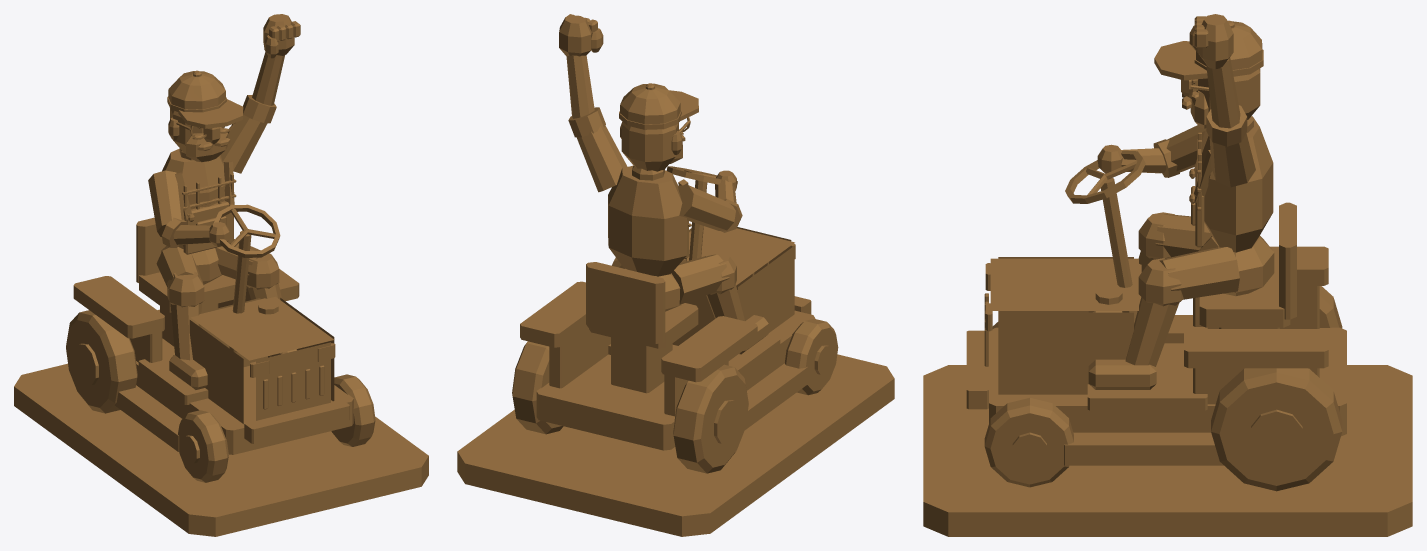
The model's file is statue.glb.
The picture shows the model from 3 angles, left to right: view 1: azimuth 30°, elevation 25°; view 2: azimuth 150°, elevation 25°; view 3: azimuth 270°, elevation 25°; orthographic projection. The views are drawn at different scales.
Parts seen in each view (by area): view 1: bronze octagonal plinth.001, beveled engine hood.001, rear wheel.001, rear wheel fender.001, mower chassis.001, front wheel.001, front bumper.001, wide cutting deck.001, flannel shirt torso.001, front wheel.003, baseball cap crown.001, steering upper sleeve.001 (+23 smaller); view 2: bronze octagonal plinth.001, mower chassis.001, flannel shirt torso.001, beveled engine hood.001, tractor seat back.001, rear wheel.001, rear wheel fender.001, rear wheel fender.003, rear wheel.003, seat pedestal.001, front wheel.001, fender support panel.003 (+17 smaller); view 3: bronze octagonal plinth.001, beveled engine hood.001, rear wheel.003, mower chassis.001, rear wheel fender.003, front wheel.003, flannel shirt torso.001, wide cutting deck.001, tractor seat cushion.001, dungaree thigh.003, rider footboard.003, dungaree shin.003 (+26 smaller).
Part boxes in pixels (bbox=[...]): bronze octagonal plinth.001: bbox=[14, 363, 428, 536]; beveled engine hood.001: bbox=[189, 296, 334, 423]; rear wheel.001: bbox=[66, 310, 137, 413]; rear wheel fender.001: bbox=[73, 276, 164, 338]; mower chassis.001: bbox=[136, 309, 353, 454]; front wheel.001: bbox=[178, 410, 228, 482]; front bumper.001: bbox=[244, 399, 349, 443]; wide cutting deck.001: bbox=[114, 385, 181, 451]; flannel shirt torso.001: bbox=[162, 148, 225, 248]; front wheel.003: bbox=[331, 374, 375, 446]; baseball cap crown.001: bbox=[168, 71, 225, 109]; steering upper sleeve.001: bbox=[148, 170, 184, 236]; bronze octagonal plinth.001: bbox=[457, 354, 894, 536]; mower chassis.001: bbox=[536, 310, 815, 450]; flannel shirt torso.001: bbox=[608, 165, 686, 276]; beveled engine hood.001: bbox=[672, 226, 794, 345]; tractor seat back.001: bbox=[586, 262, 665, 343]; rear wheel.001: bbox=[673, 364, 748, 473]; rear wheel fender.001: bbox=[661, 316, 757, 382]; rear wheel fender.003: bbox=[520, 281, 585, 347]; rear wheel.003: bbox=[512, 341, 563, 434]; seat pedestal.001: bbox=[611, 337, 672, 393]; front wheel.001: bbox=[785, 318, 838, 395]; fender support panel.003: bbox=[549, 324, 610, 388]; bronze octagonal plinth.001: bbox=[923, 365, 1412, 536]; beveled engine hood.001: bbox=[990, 257, 1141, 394]; rear wheel.003: bbox=[1211, 368, 1342, 491]; mower chassis.001: bbox=[989, 327, 1346, 436]; rear wheel fender.003: bbox=[1184, 329, 1328, 368]; front wheel.003: bbox=[984, 398, 1073, 487]; flannel shirt torso.001: bbox=[1202, 116, 1273, 252]; wide cutting deck.001: bbox=[1064, 432, 1223, 465]; tractor seat cushion.001: bbox=[1199, 264, 1290, 327]; dungaree thigh.003: bbox=[1159, 247, 1239, 299]; rider footboard.003: bbox=[1087, 380, 1207, 410]; dungaree shin.003: bbox=[1125, 297, 1179, 366].
Size of the model in its own units: 154 by 239 by 216.
